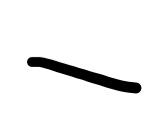minus: (27, 55, 140, 95)
